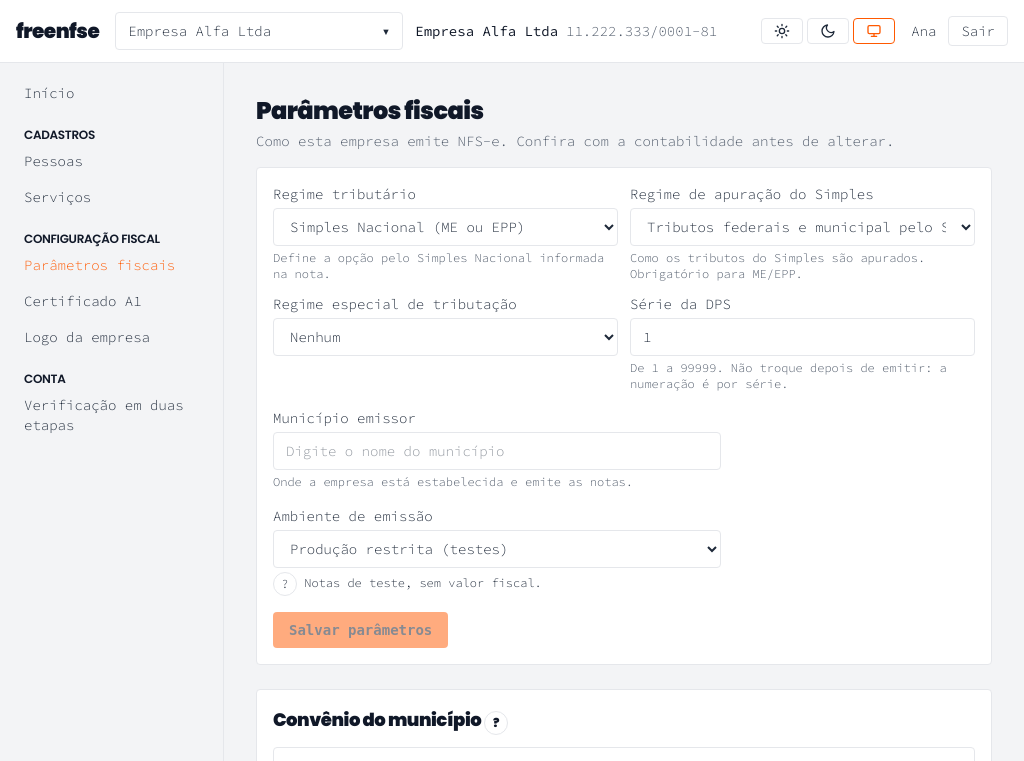
it: Parâmetros fiscais › os campos fiscais têm ajuda em linguagem simples
The width and height of the screenshot is (1024, 761).
Expected: the dropdown labelled "Regime tributário" is shown, left=273, top=208, right=618, bottom=246
Step 1. Click the button named "Ajuda: ambiente de emissão" → (285, 584), box left=273, top=572, right=297, bottom=596
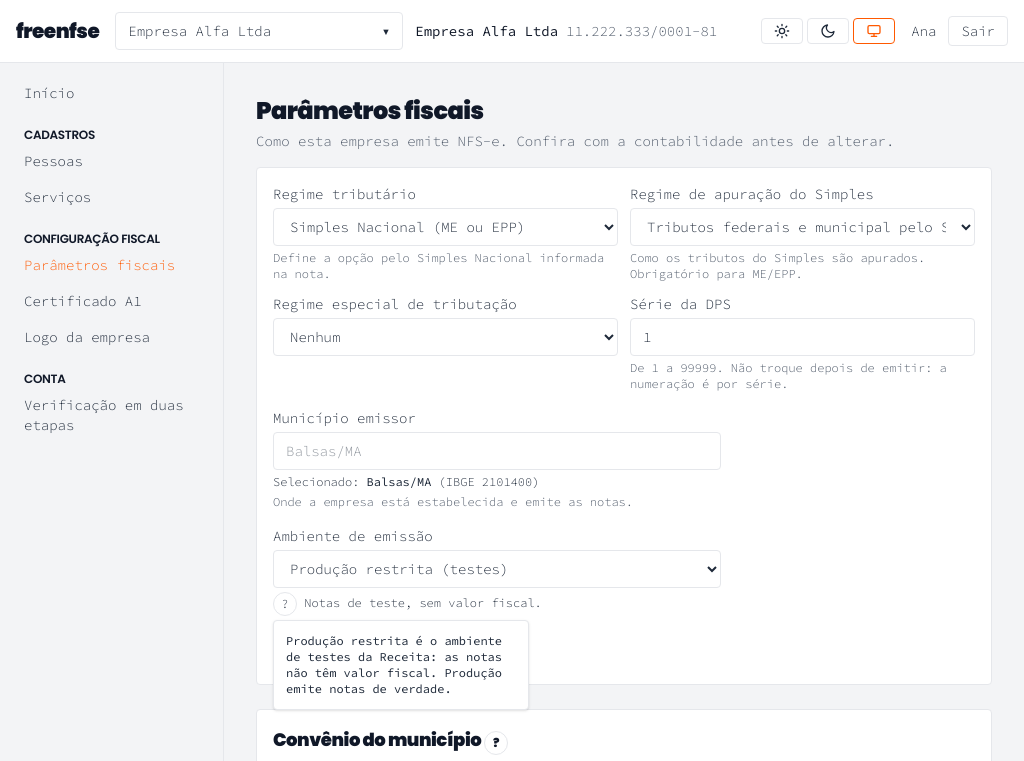
Result: the text "ambiente de testes da Receita" is shown at left=286, top=633, right=502, bottom=696
